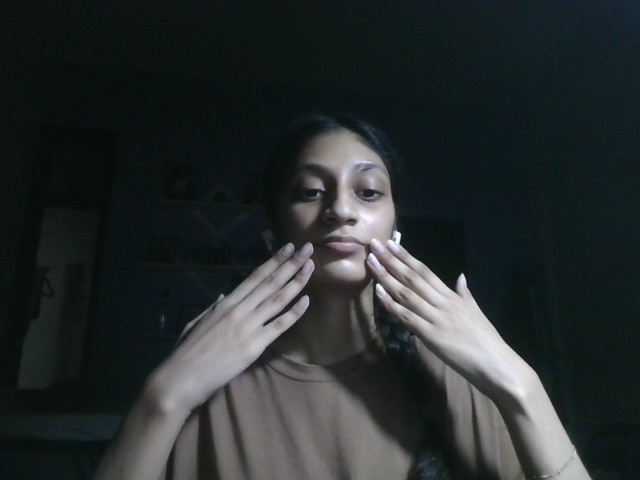thank you: (150, 238, 540, 408)
